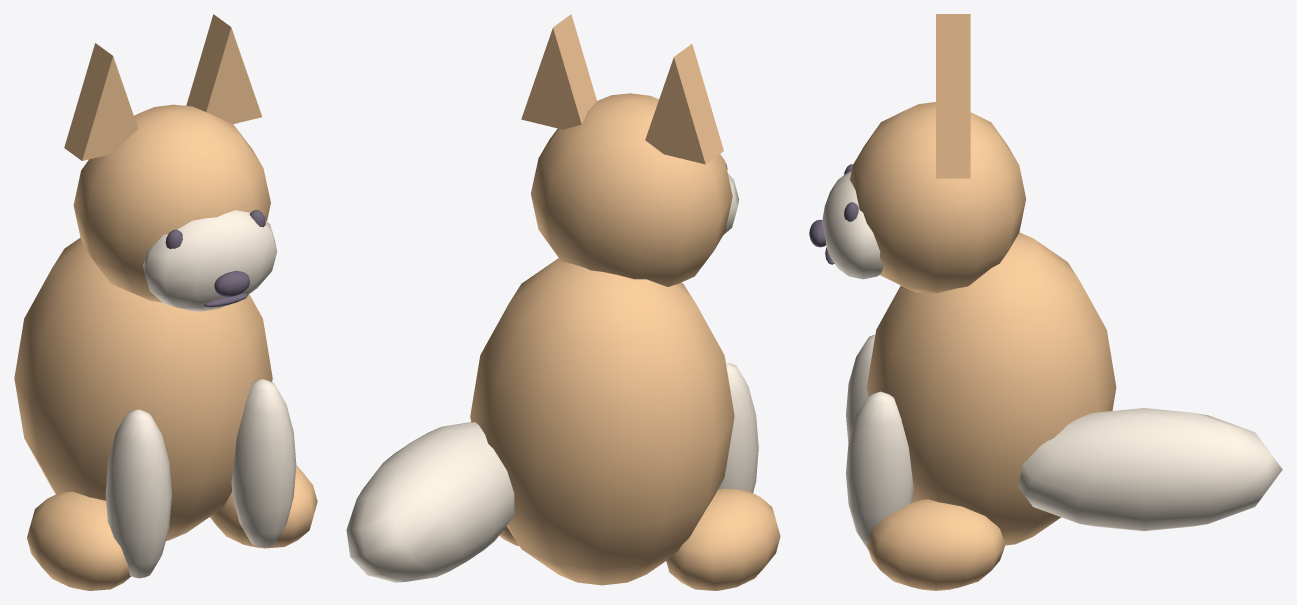
Rendered from fox-support.glb.
3 renders of one model, left to right at view 1: azimuth 30°, elevation 25°; view 2: azimuth 150°, elevation 25°; view 3: azimuth 270°, elevation 25°, orthographic. The views are drawn at different scales.
Visible parts, largest first — view 1: fox support offline illustration; view 2: fox support offline illustration; view 3: fox support offline illustration.
Part boxes in pixels (x1,y1,x2,y2): fox support offline illustration: [14, 14, 317, 590]; fox support offline illustration: [346, 14, 780, 590]; fox support offline illustration: [809, 14, 1282, 590].
Bounding box in the file's own units: 0.4345 × 0.8 × 0.683.
